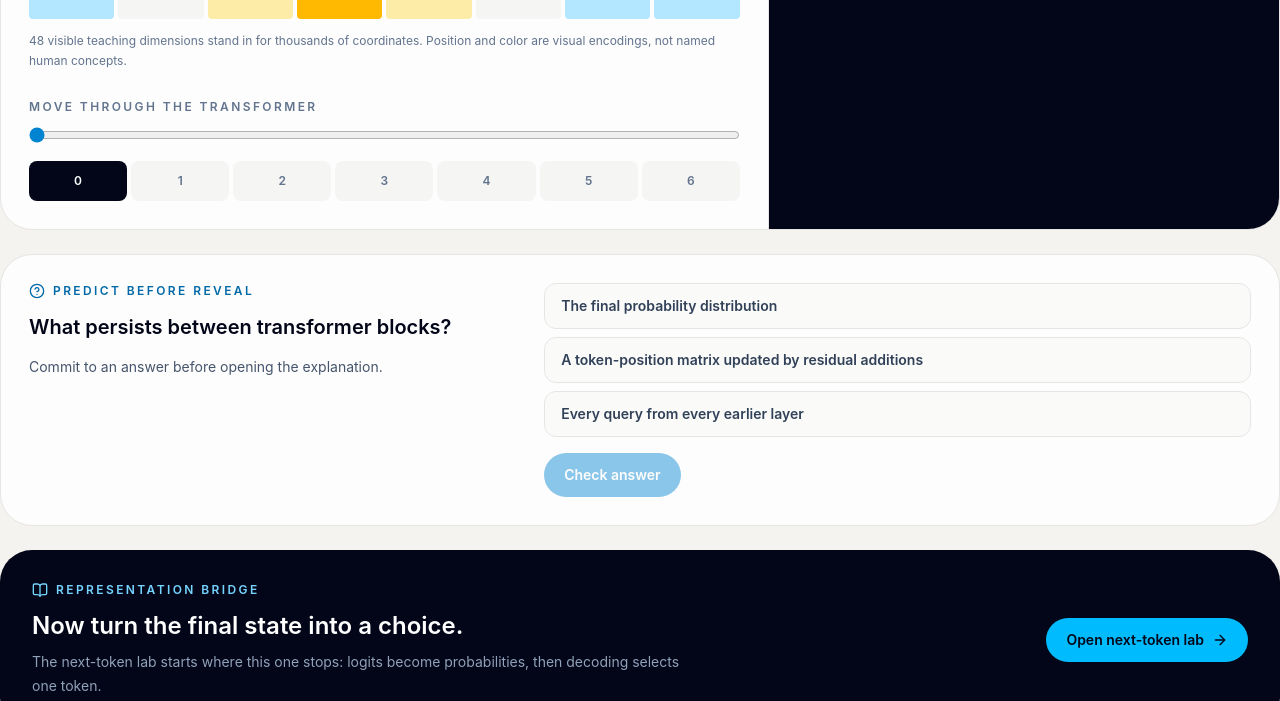
ResidualStreamLabPage › explains the residual connection with a checkpoint
(page scrolled)
Click the button with test id "residual-update-choice-stream". click: [898, 360]
box: [544,337,1251,383]
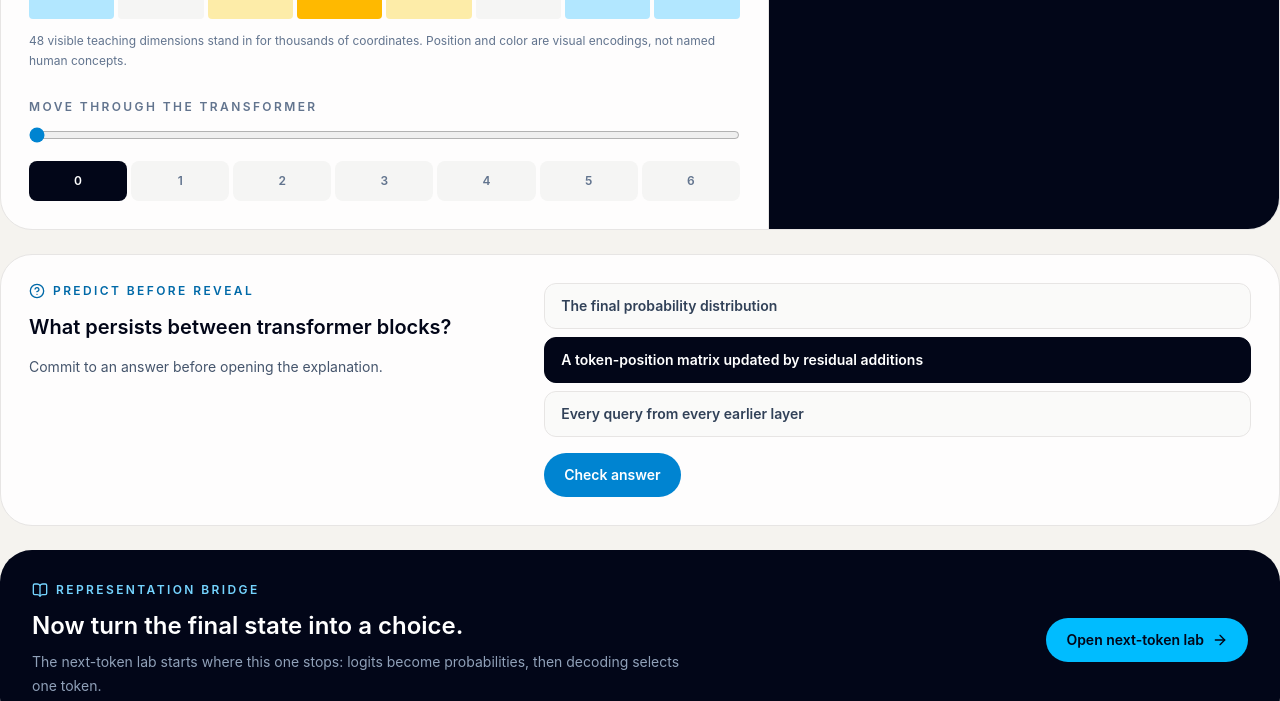
Click the button with test id "residual-update-check". click: [612, 475]
box: [544,453,681,497]
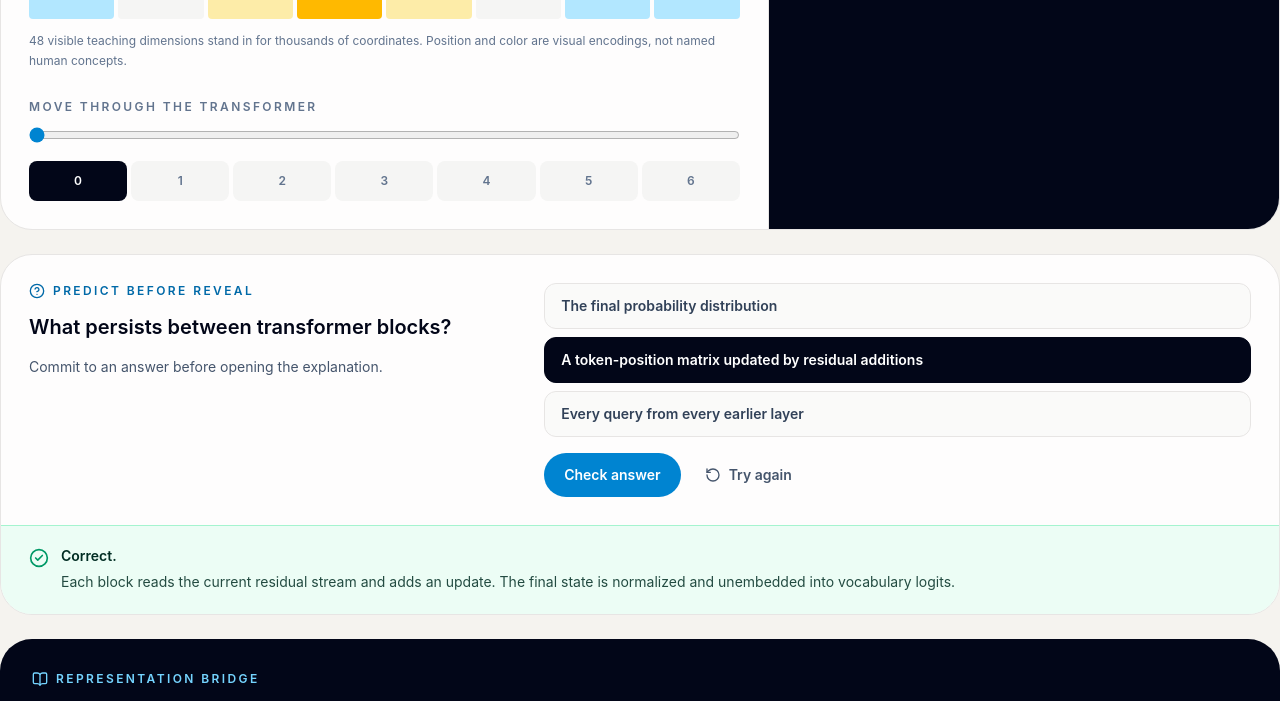
Now the message with test id "residual-update-feedback" shows "Correct", box [61,547,117,564]
